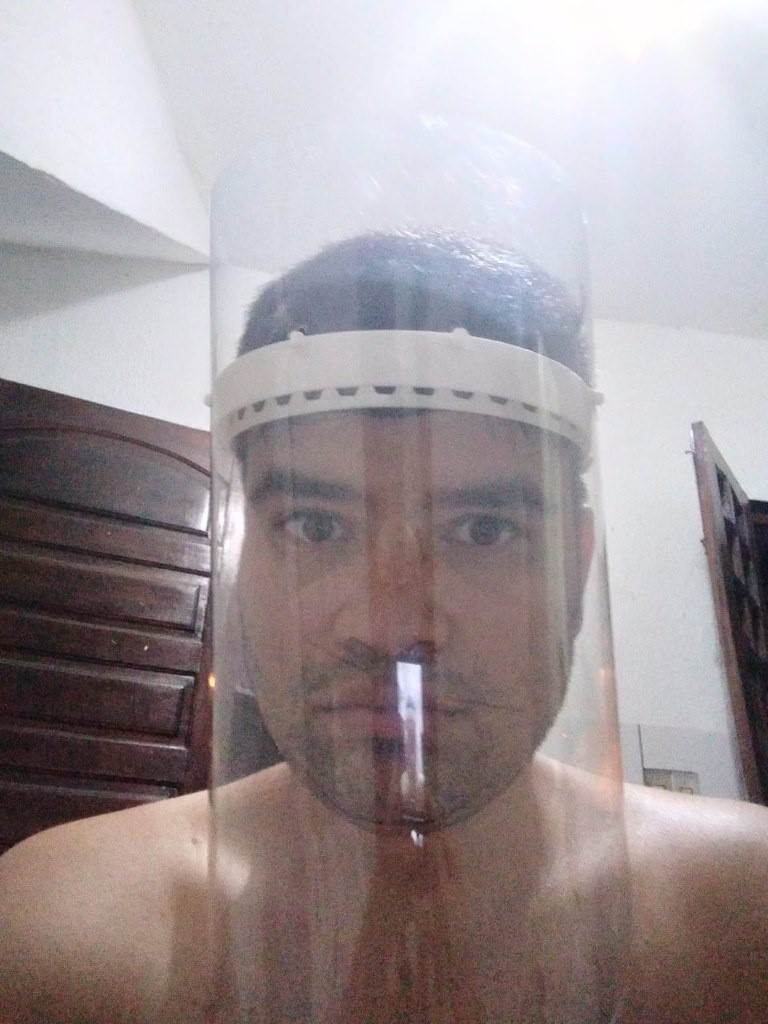face_no_mask: (232, 272, 598, 826)
